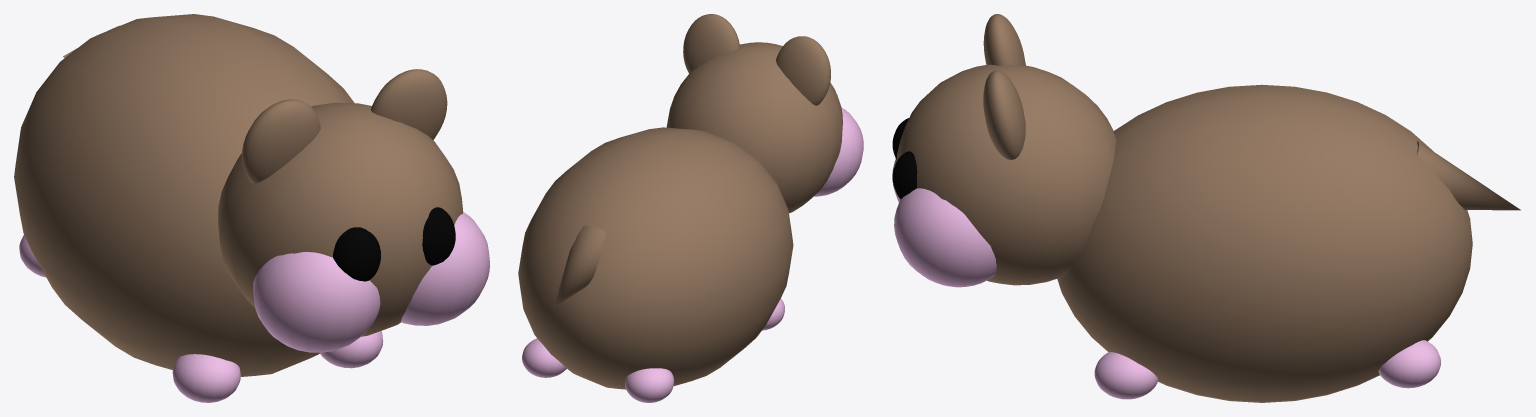
Rendered from Hamster.fbx.
The picture shows the model from 3 angles, left to right: view 1: azimuth 30°, elevation 25°; view 2: azimuth 150°, elevation 25°; view 3: azimuth 270°, elevation 25°; orthographic projection. The views are drawn at different scales.
Parts seen in each view (by area): view 1: Hamster_Body, Hamster_Head, Left_Cheek, Right_Cheek, Left_Ear, Right_Ear, Left_Arm, Hamster_LeftEye, Hamster_RightEye, Right_Arm, Left_Leg; view 2: Hamster_Body, Hamster_Head, Left_Ear, Right_Ear, Tail, Left_Cheek, Left_Leg, Right_Leg, Left_Arm; view 3: Hamster_Body, Hamster_Head, Right_Cheek, Right_Ear, Tail, Right_Arm, Right_Leg, Left_Ear, Hamster_RightEye.
Part boxes in pixels (box(x1,y1,x2,y2)): Hamster_Body: box(14, 14, 354, 376); Hamster_Head: box(218, 102, 463, 336); Left_Cheek: box(253, 252, 380, 352); Right_Cheek: box(401, 212, 489, 325); Left_Ear: box(242, 99, 320, 183); Right_Ear: box(370, 69, 447, 139); Left_Arm: box(172, 354, 240, 402); Hamster_LeftEye: box(333, 227, 380, 281); Hamster_RightEye: box(422, 207, 455, 265); Right_Arm: box(320, 331, 383, 368); Left_Leg: box(19, 235, 46, 277); Hamster_Body: box(518, 127, 793, 389); Hamster_Head: box(666, 42, 842, 213); Left_Ear: box(776, 36, 830, 105); Right_Ear: box(683, 14, 739, 73); Tail: box(553, 225, 605, 307); Left_Cheek: box(814, 108, 863, 196); Left_Leg: box(625, 368, 674, 402); Right_Leg: box(522, 338, 566, 377); Left_Arm: box(762, 298, 784, 330); Hamster_Body: box(1057, 84, 1472, 402); Hamster_Head: box(896, 64, 1116, 285); Right_Cheek: box(894, 188, 996, 287); Right_Ear: box(983, 70, 1025, 159); Tail: box(1417, 141, 1520, 210); Right_Arm: box(1094, 352, 1158, 399); Right_Leg: box(1378, 340, 1440, 388); Left_Ear: box(983, 14, 1025, 65); Hamster_RightEye: box(892, 151, 917, 199).
Size of the model in its own units: 111 by 131 by 217.
